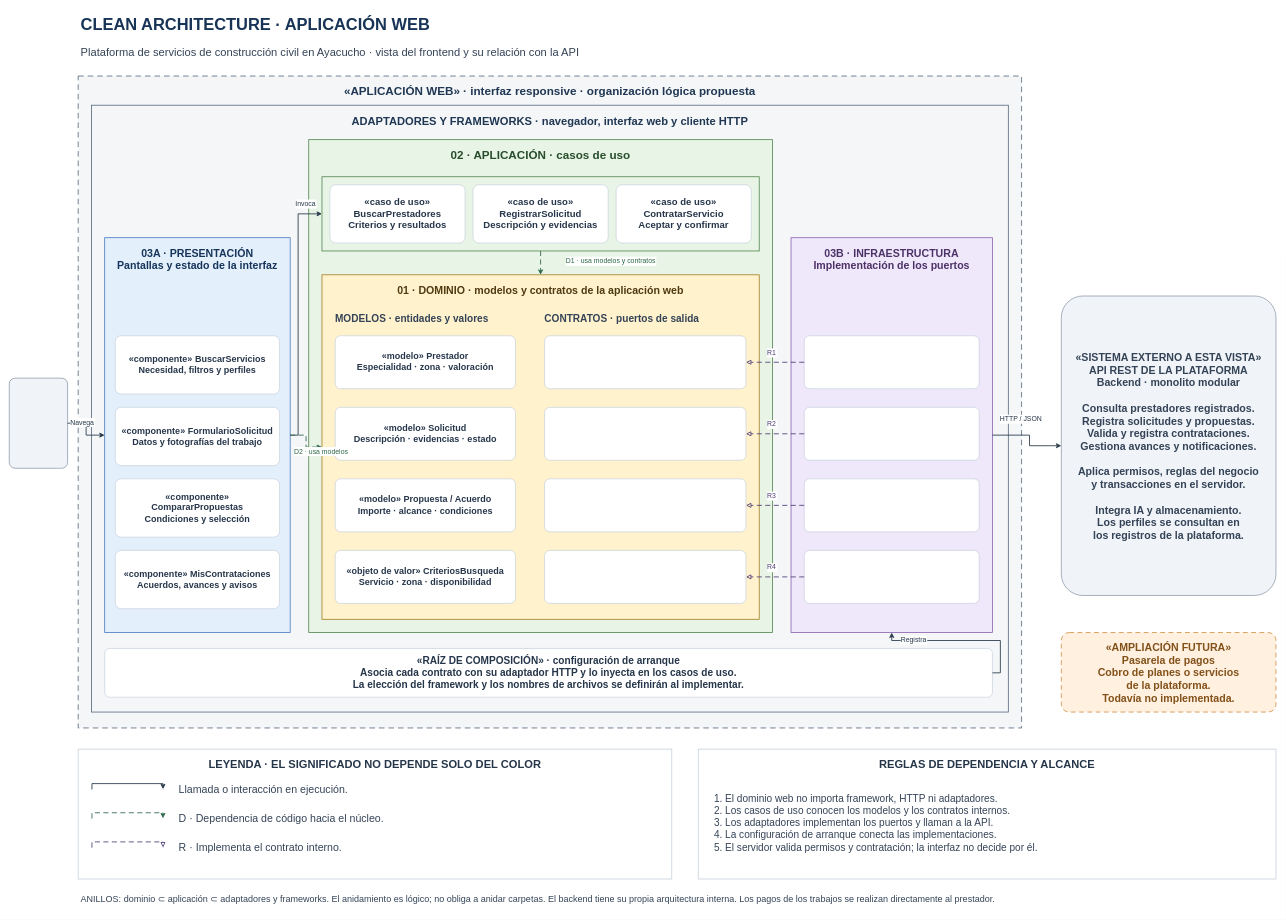
Some shapes in this 1286 by 920 pixel diagram are drawn without their labels. The centre of each missing label's shape, as x and y in pixels:
«adaptador HTTP» BusquedaAsistidaApi: the point at 891,577
«adaptador HTTP» ContratacionesApi: the point at 891,505
«adaptador HTTP» PrestadoresApi: the point at 891,362
«adaptador HTTP» SolicitudesApi: the point at 891,433
«interfaz» BusquedaAsistida: the point at 645,577
«interfaz» RepositorioContrataciones: the point at 645,505
«interfaz» RepositorioPrestadores: the point at 645,362
«interfaz» RepositorioSolicitudes: the point at 645,433
«usuario» Navegador web Móvil o PC: the point at 38,423
